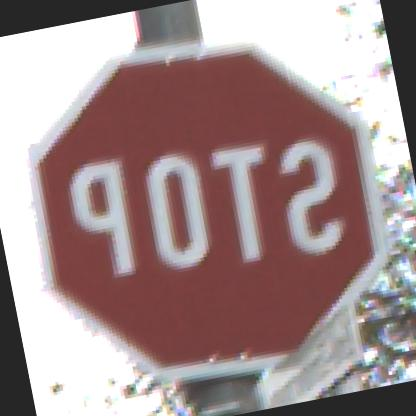stop: (0, 11, 405, 409)
